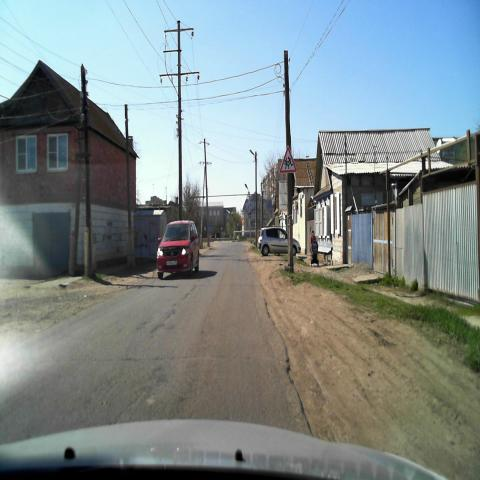1_23: (280, 145, 298, 173)
